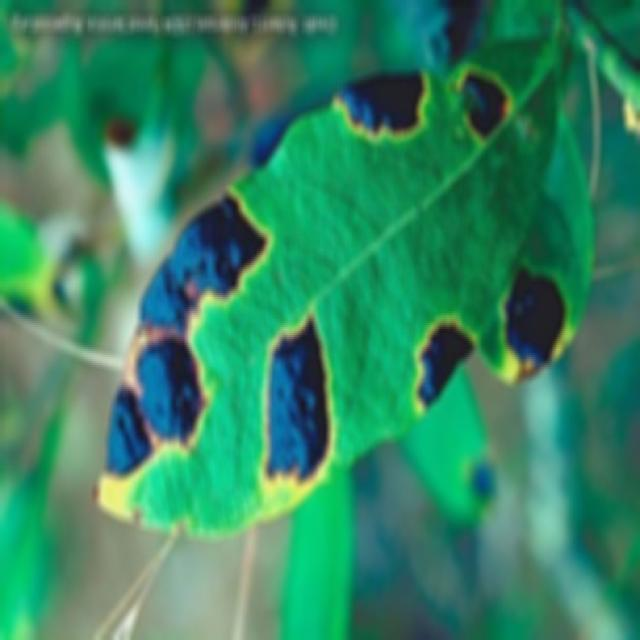Tar_Spot: (105, 148, 569, 503)
